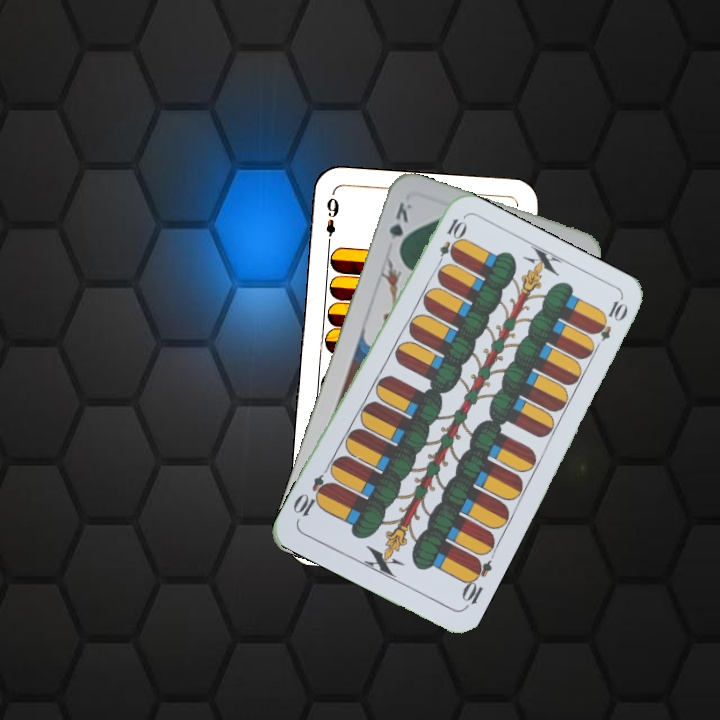E10: (457, 553, 495, 612), (432, 214, 467, 271)
E9: (322, 193, 341, 249)
GK: (385, 198, 415, 256)
